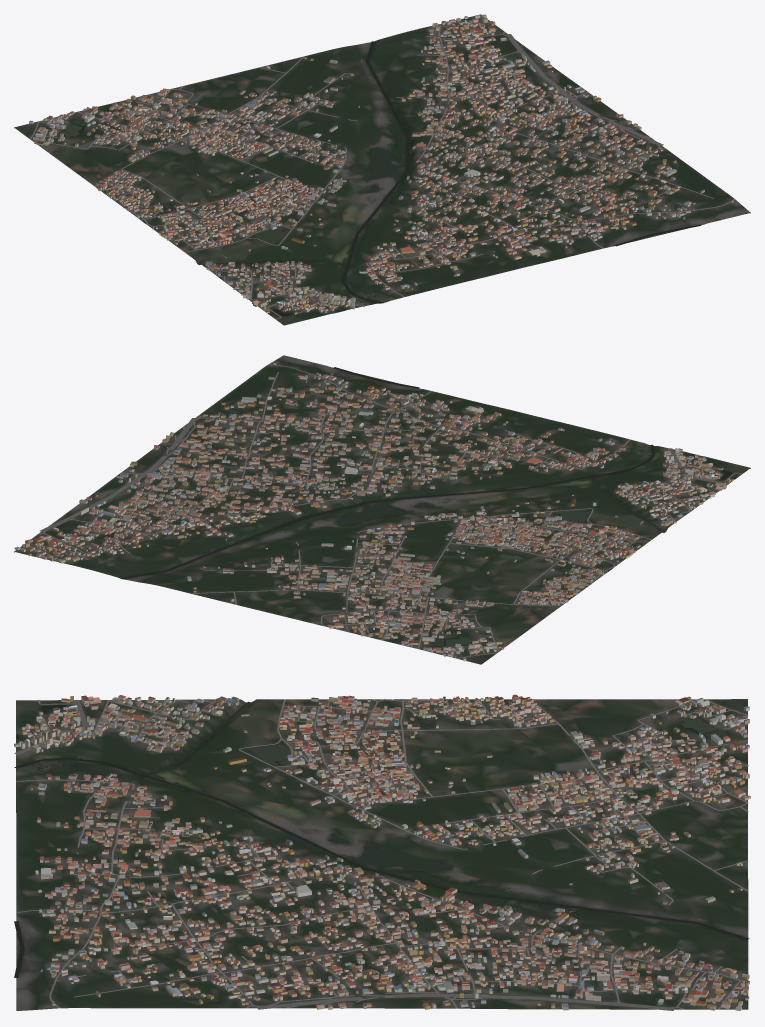
The picture shows the model from 3 angles, top to bottom: view 1: azimuth 30°, elevation 25°; view 2: azimuth 150°, elevation 25°; view 3: azimuth 270°, elevation 25°; orthographic projection. The views are drawn at different scales.
Visible parts, largest first — view 1: ground, buildings, roads, water; view 2: ground, buildings, roads, water; view 3: ground, buildings, roads, water.
Part boxes in pixels (left/top/right/bottom): ground: left=14, top=14, right=750, bottom=325; buildings: left=29, top=14, right=733, bottom=314; roads: left=30, top=22, right=735, bottom=319; water: left=62, top=41, right=700, bottom=316; ground: left=14, top=355, right=750, bottom=664; buildings: left=14, top=363, right=734, bottom=661; roads: left=30, top=364, right=742, bottom=658; water: left=121, top=367, right=732, bottom=646; ground: left=16, top=699, right=748, bottom=1010; buildings: left=14, top=694, right=750, bottom=1010; roads: left=14, top=698, right=748, bottom=1010; water: left=14, top=699, right=749, bottom=977.
Size of the model in its own units: 1416 by 23.97 by 1412.
